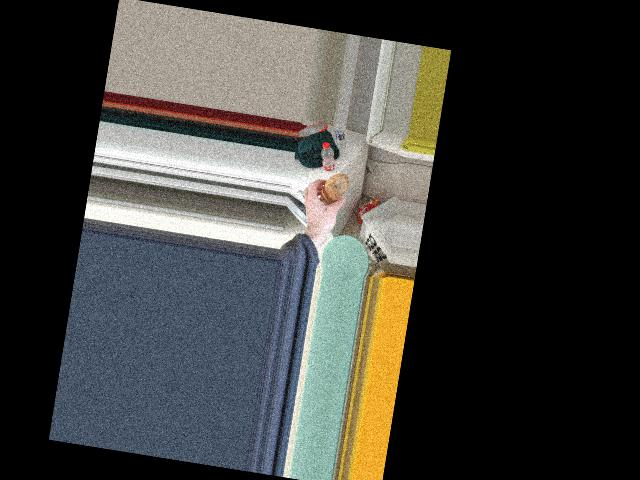sweet_potato: (317, 170, 350, 208)
